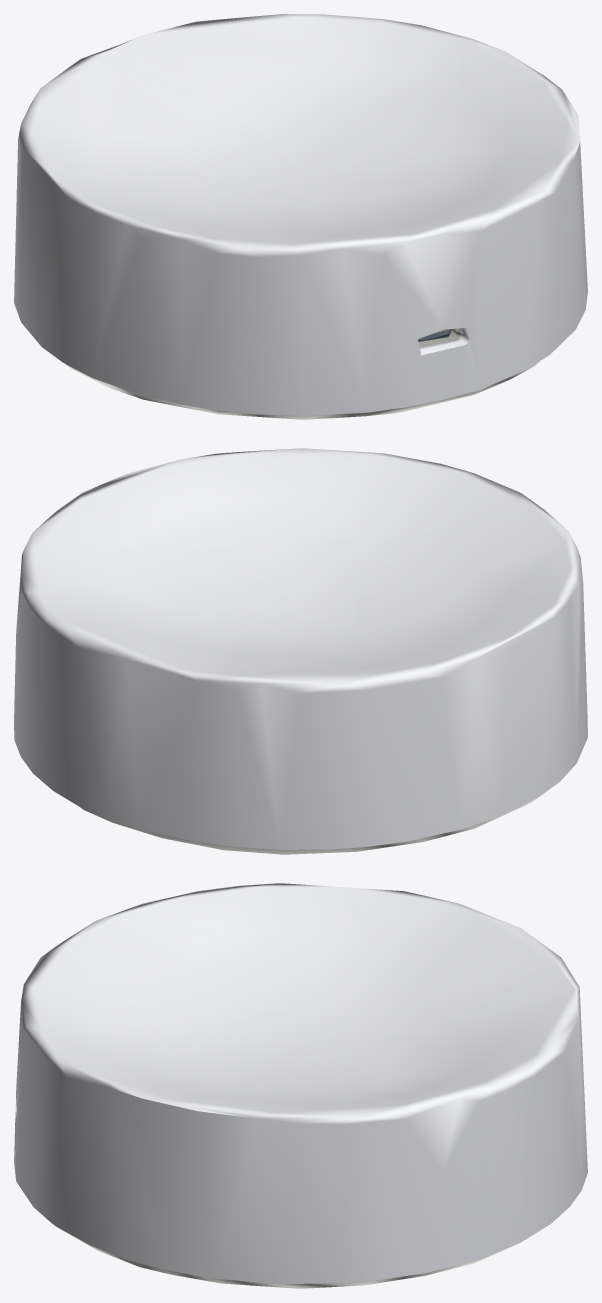
The model's file is kolvatten_reflektor_led_80568989.glb.
3 renders of one model, top to bottom at view 1: azimuth 30°, elevation 25°; view 2: azimuth 150°, elevation 25°; view 3: azimuth 270°, elevation 25°, orthographic.
Parts seen in each view (by area): view 1: kolvatten_reflektor_led_80568989; view 2: kolvatten_reflektor_led_80568989; view 3: kolvatten_reflektor_led_80568989.
Boxes of the visible parts, box(x1,y1,x2,y2) form: kolvatten_reflektor_led_80568989: box(14, 14, 587, 419); kolvatten_reflektor_led_80568989: box(14, 448, 587, 854); kolvatten_reflektor_led_80568989: box(14, 883, 587, 1288).
Bounding box in the file's own units: 0.0912 × 0.0314 × 0.0914.
2 materials, 2 textured.
